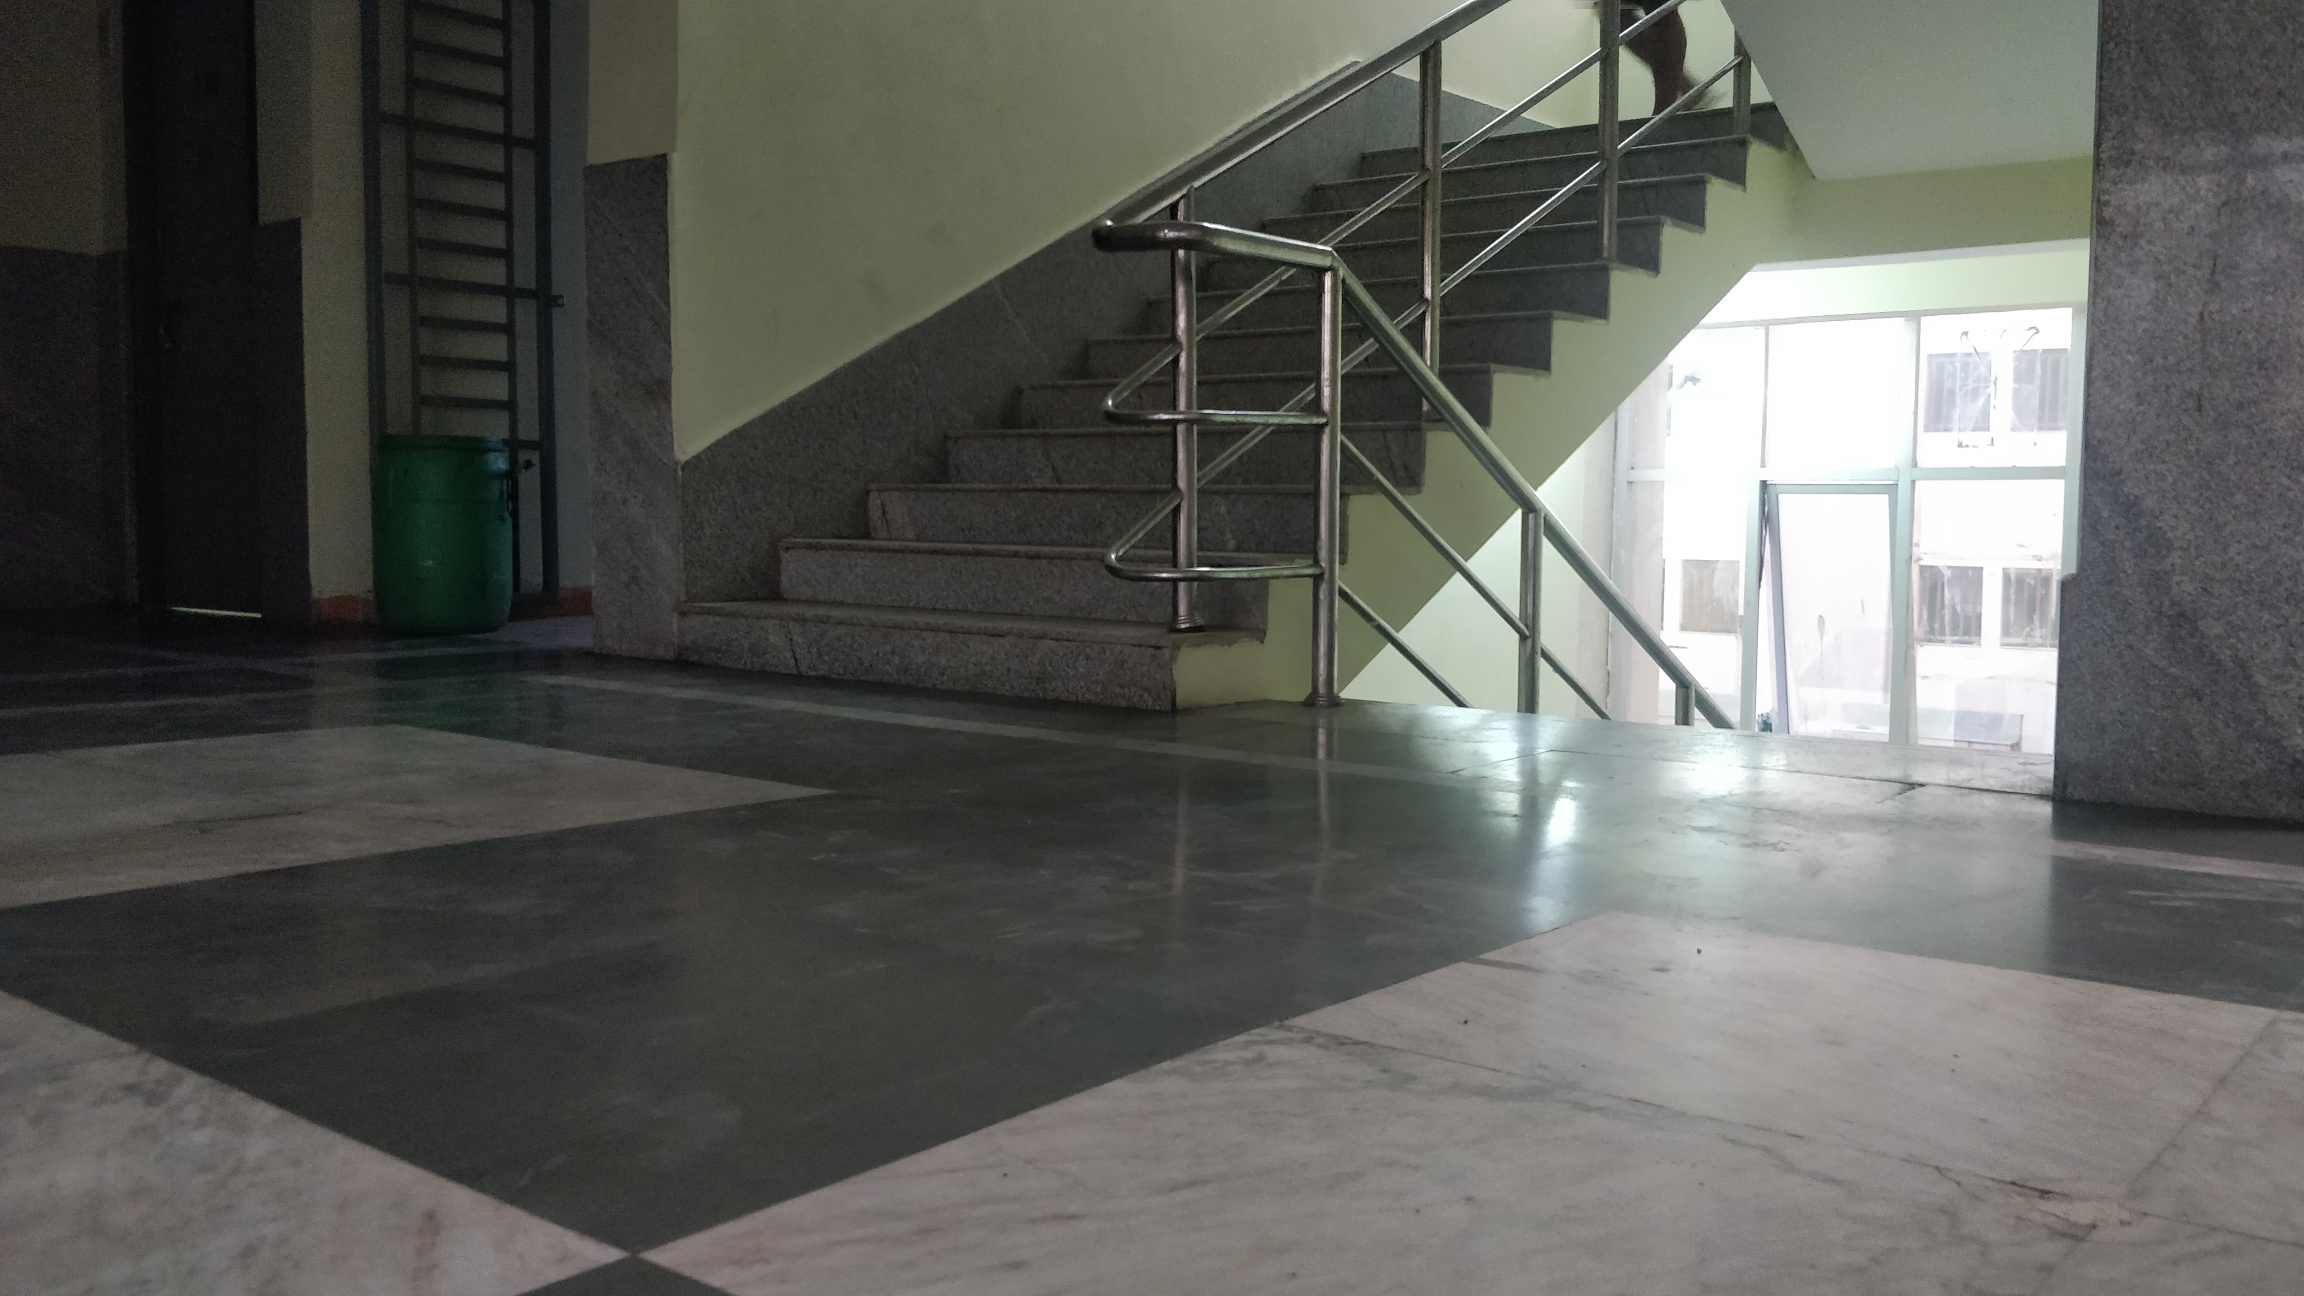stairs_up: (658, 78, 1804, 722)
